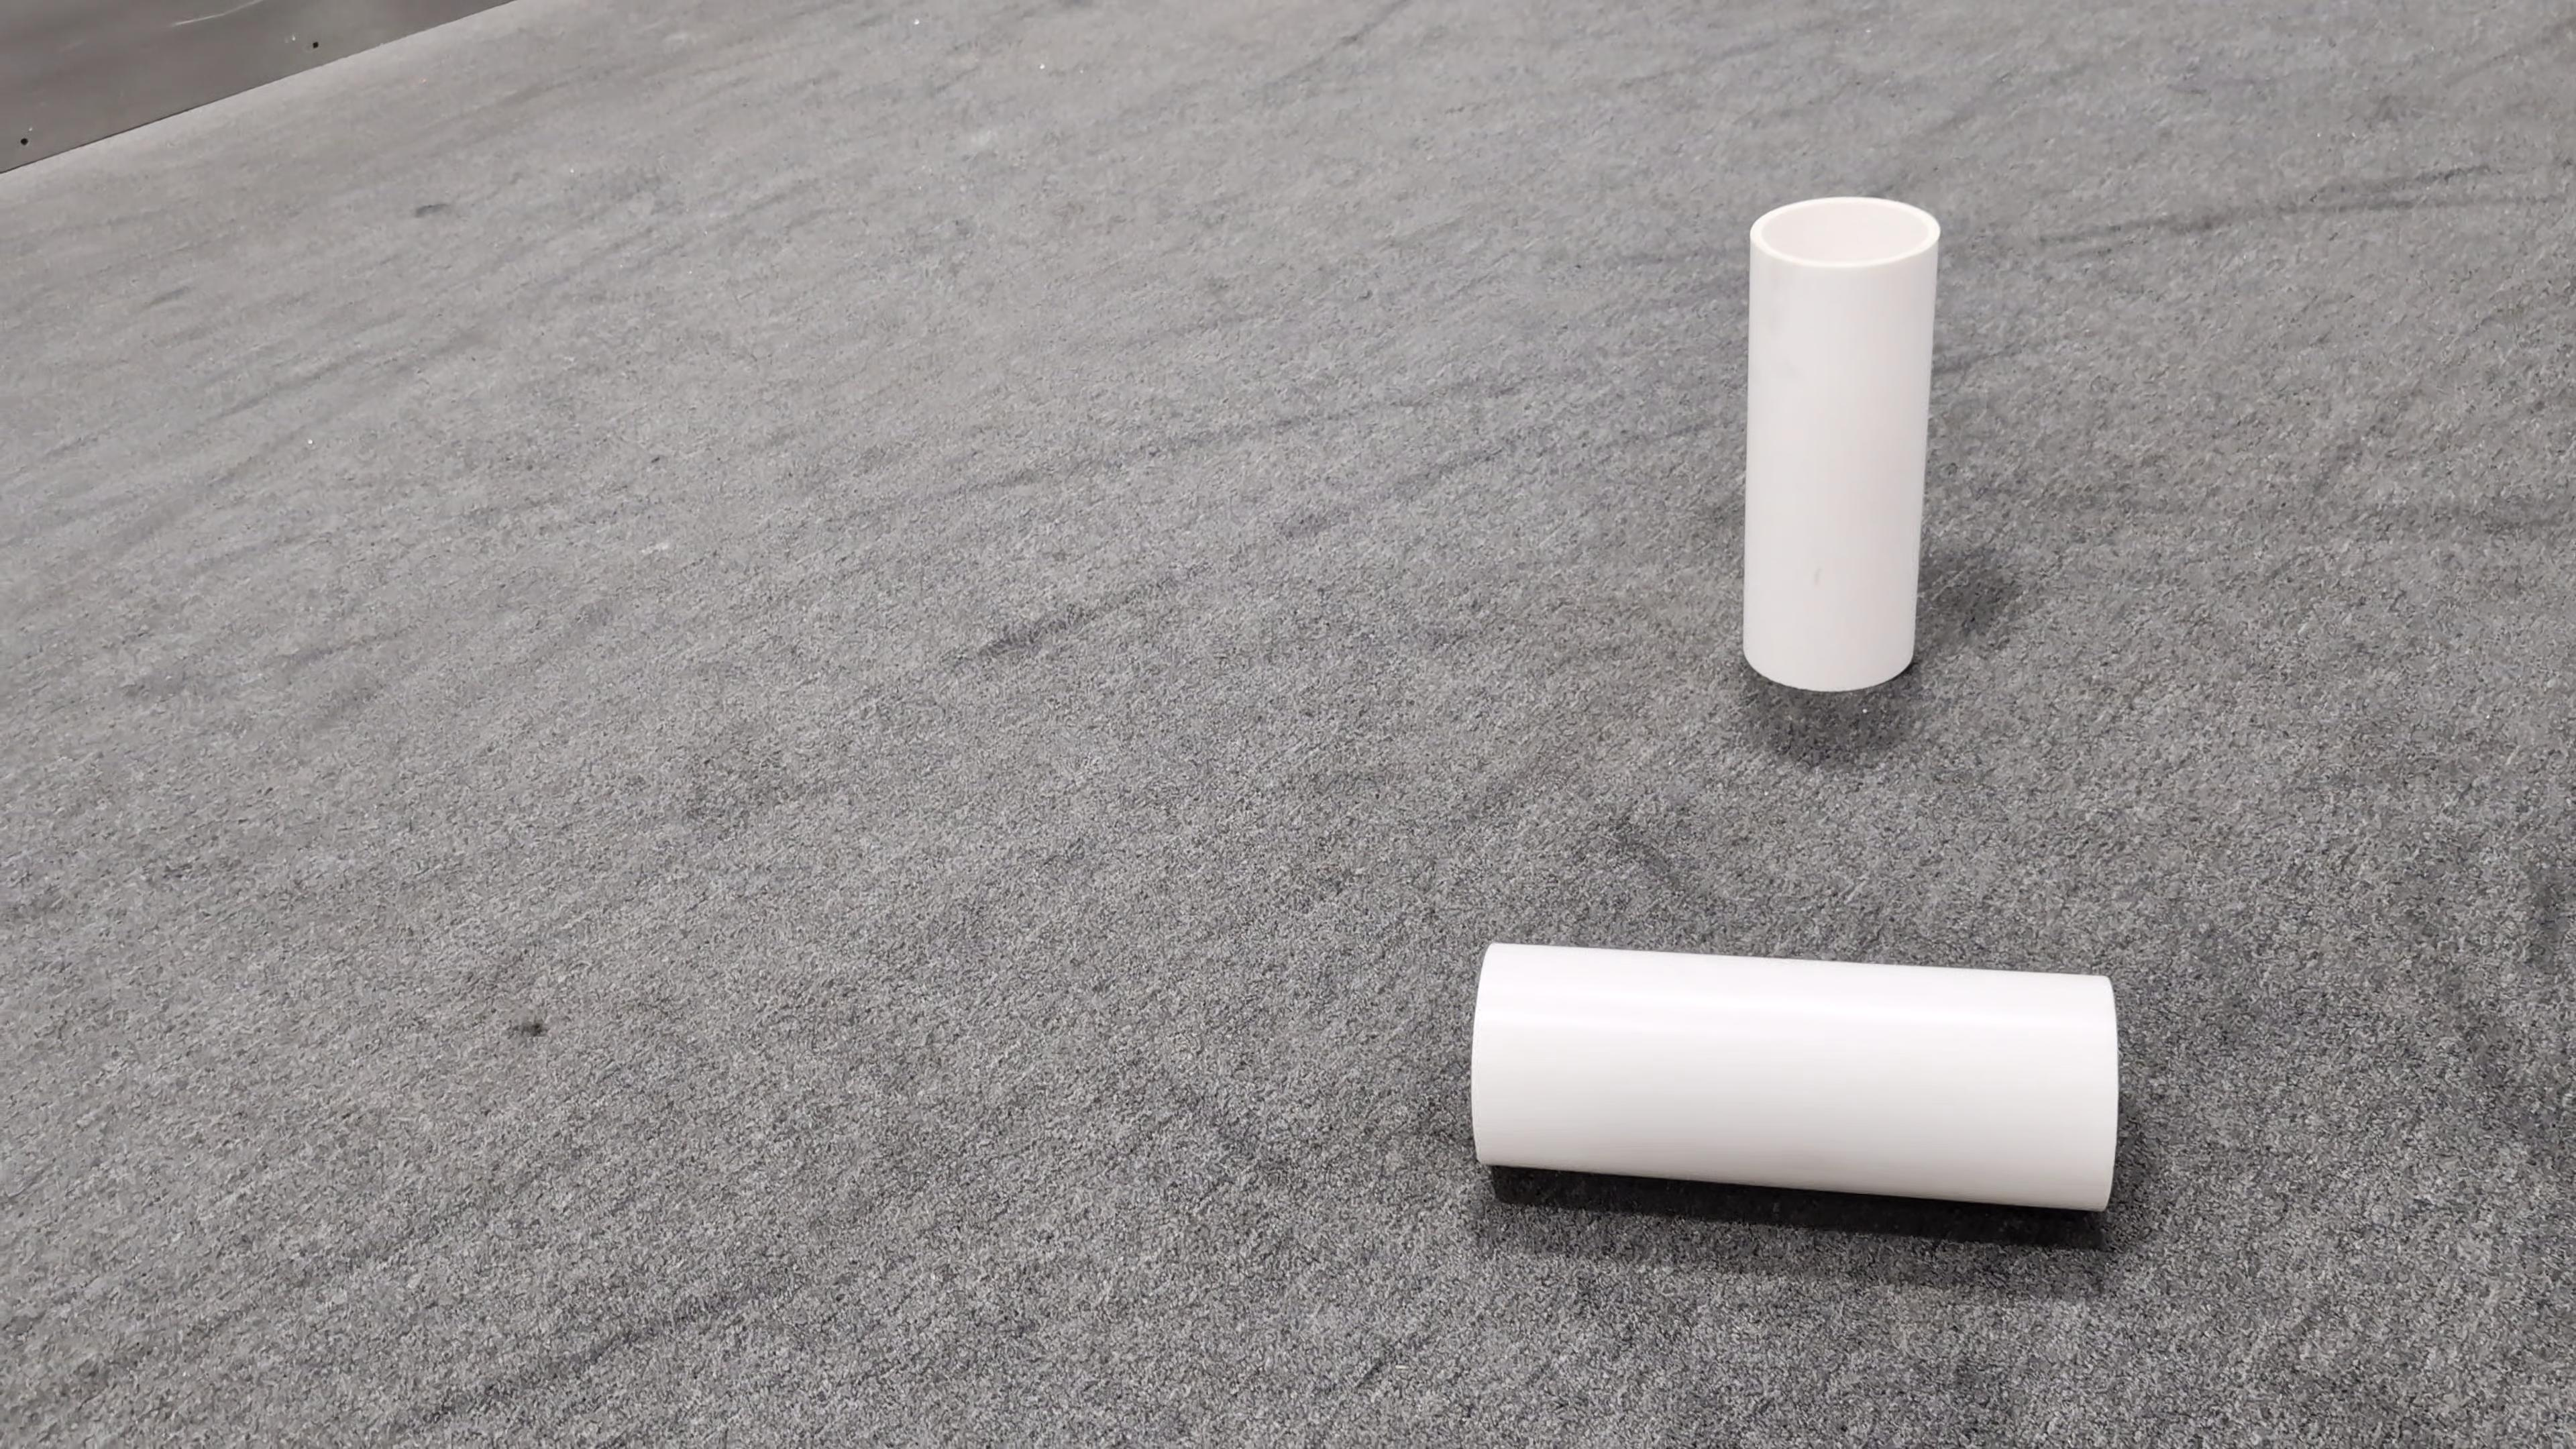coral: (1472, 941, 2116, 1214), (1743, 196, 1941, 692)
